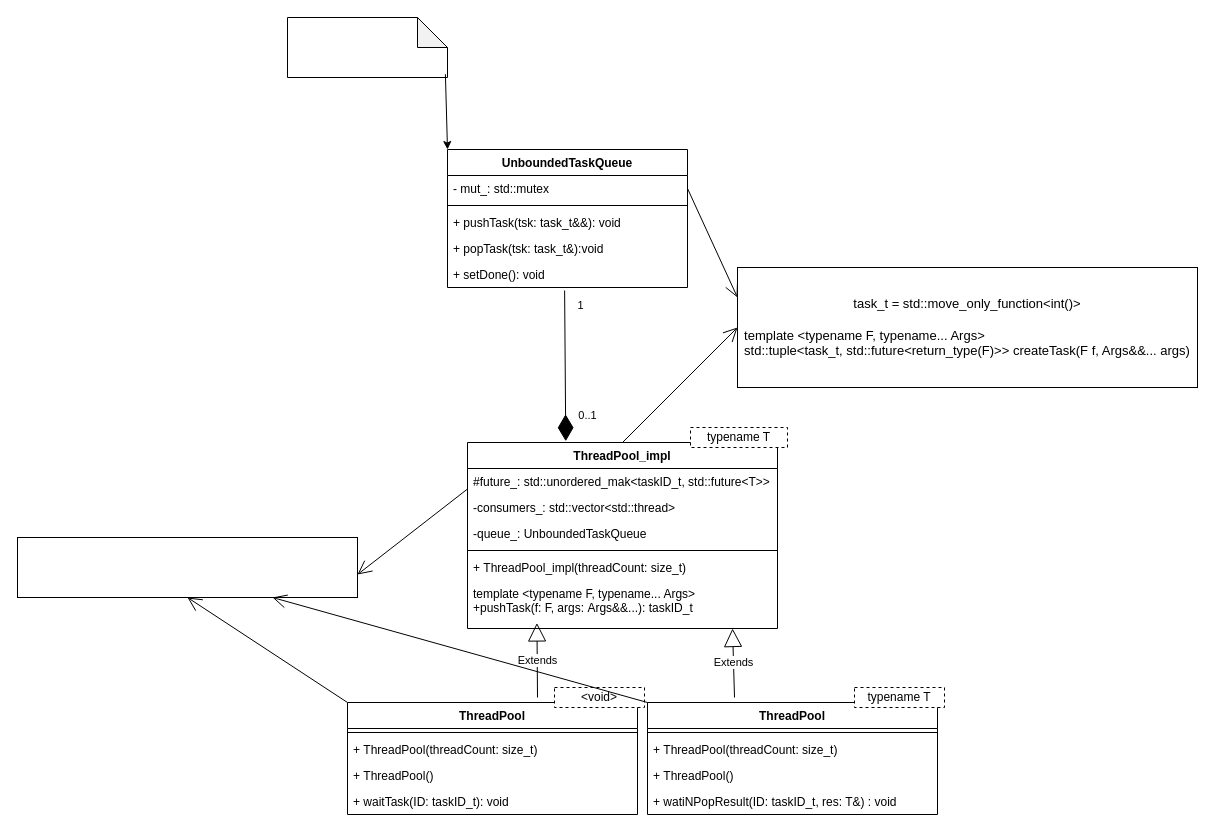
Some shapes in this 1215 by 835 pixel diagram are drawn without their labels. Here are the shapes that lost their labels. From the top down, the centre of each, then its label:
(367,47): lock-based queue
(187,567): taksID_t = size_t taskID_t initID(); taskID_t getNextId(const taskID_t& ID)
